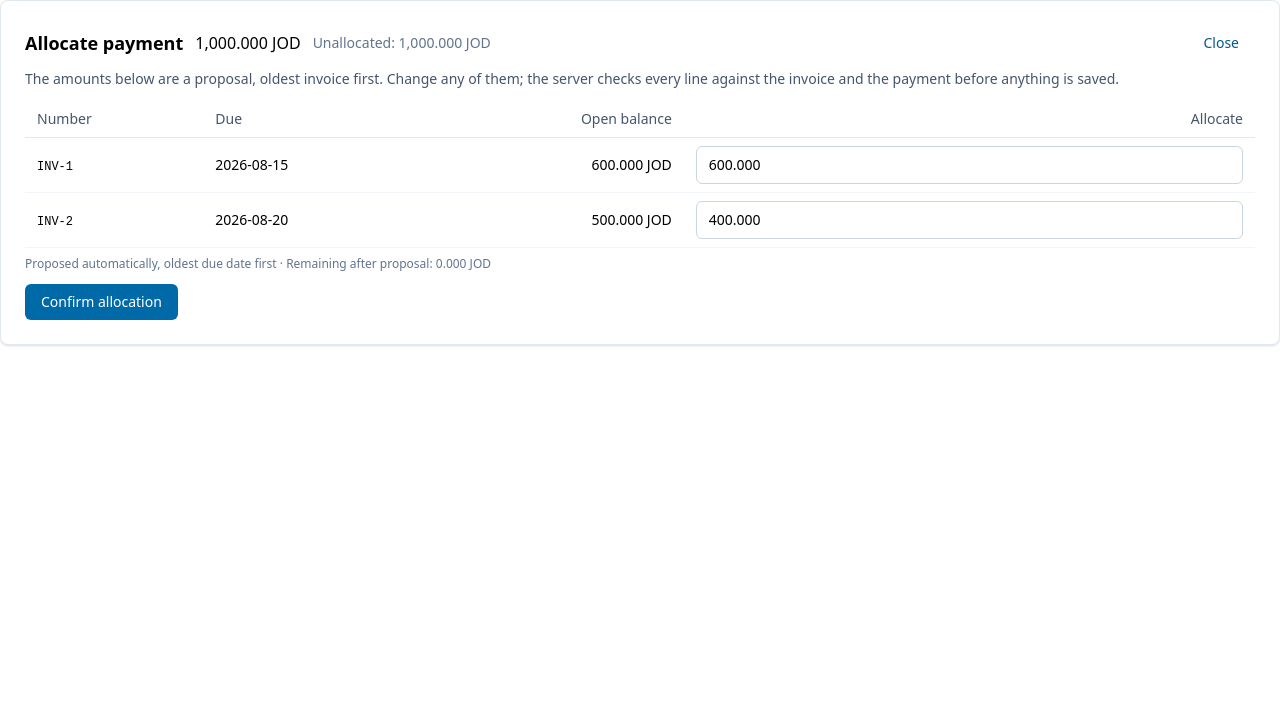
allocation screen (slice 3b AC-17 / UI-30) › pre-fills the server proposal, sends the edited lines verbatim and shows server-provided residuals
The image size is (1280, 720).
Expected: the field with test id "allocate-INV-1" holds "600.000", [696,146,1243,184]
Replace the text in the field with test id "allocate-INV-2" with "449.950": (969, 220) [696,201,1243,239]
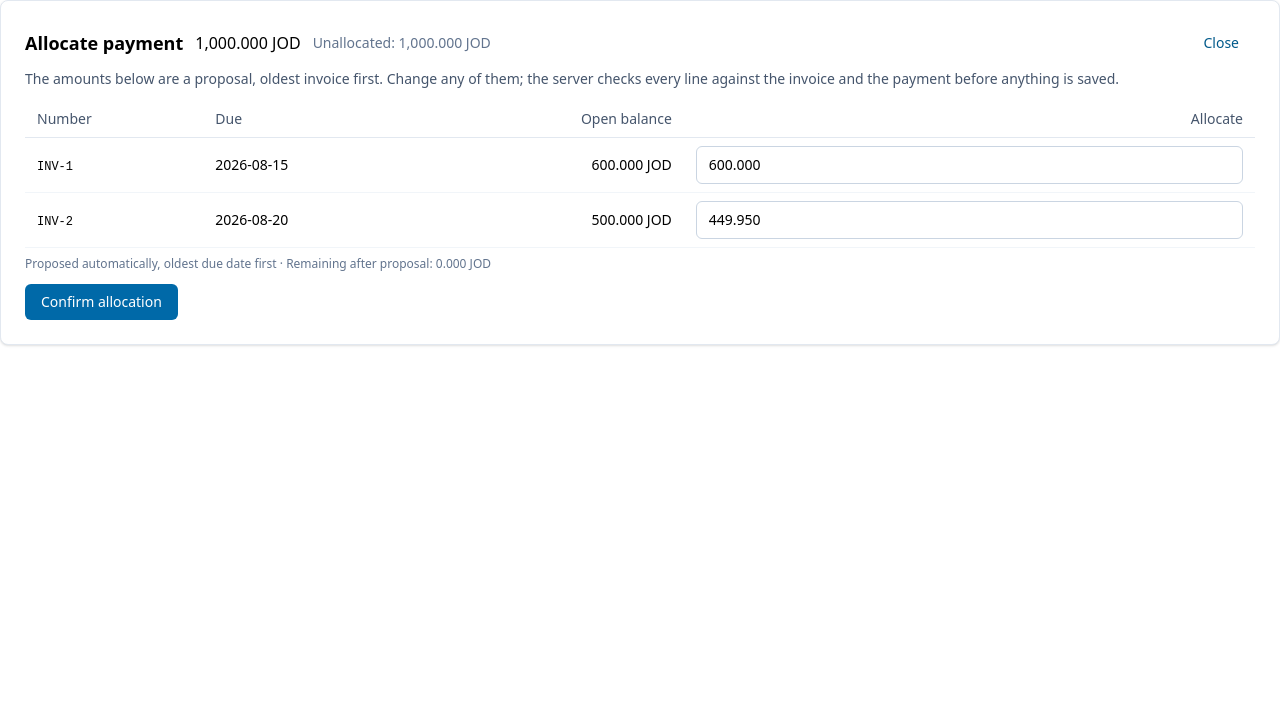
Click the button with test id "confirm-allocation": (101, 302) [25,284,178,320]
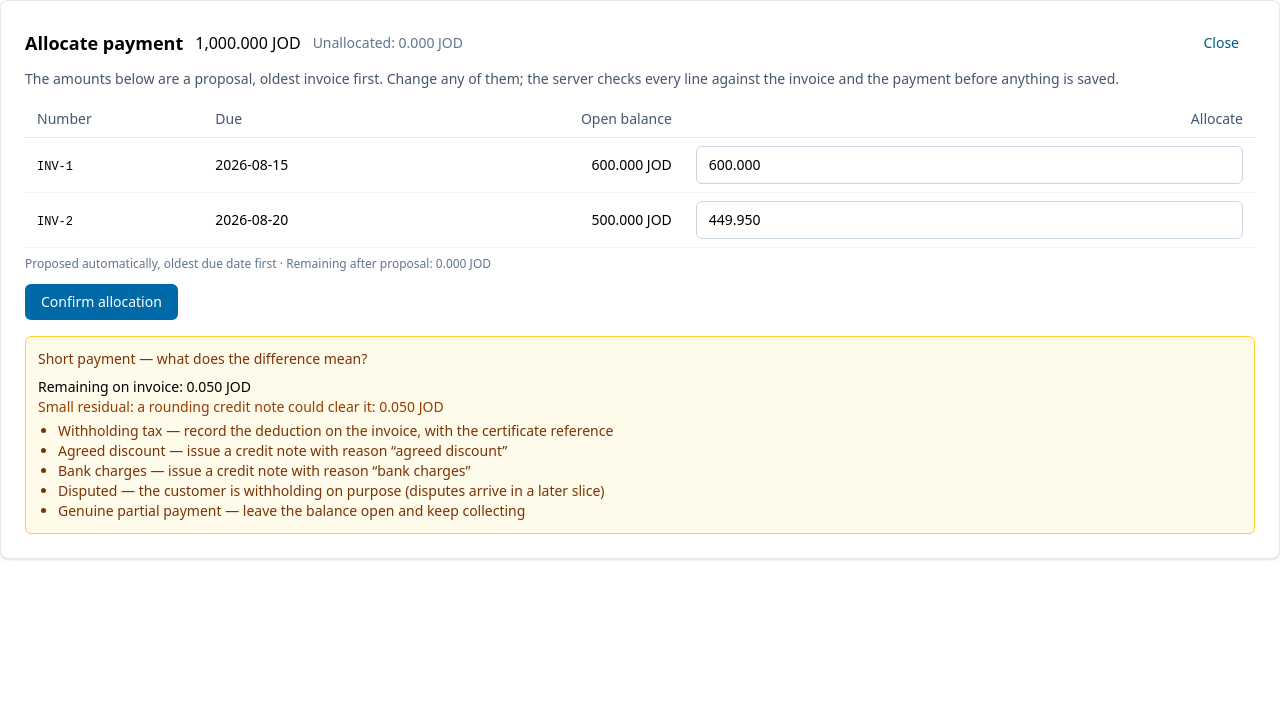
Expected: the element with test id "short-payment-resolver" is shown, [25,336,1255,534]
Expected: the element with test id "unallocated" reads "0.000 JOD", [399,33,463,52]
Expected: the element with test id "rounding-proposal" shows "0.050 JOD", [38,397,444,416]
